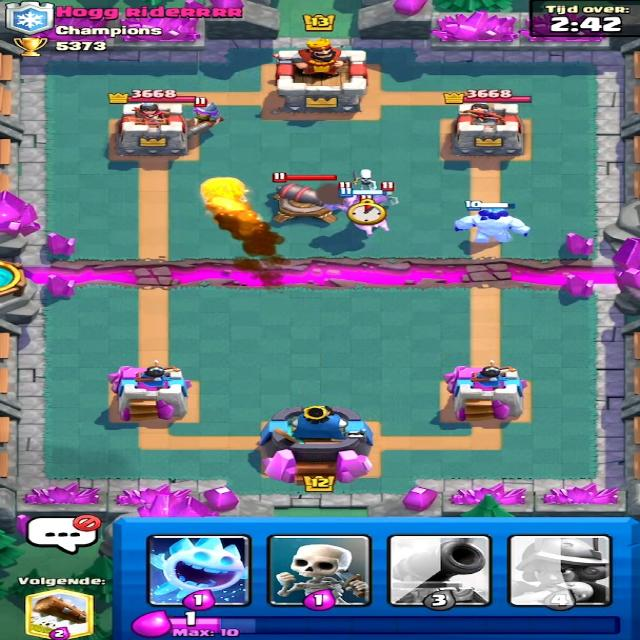Cannon_Card: (390, 530, 484, 608)
Enemy_Cannon_Troop: (270, 185, 326, 219)
Enemy_Musketeer_Troop: (178, 100, 234, 140)
Fireball_Troop: (191, 177, 253, 217)
Ice_Golem_Troop: (453, 209, 531, 246)
Ice_Spirit_Card: (151, 534, 250, 608)
Musketeer_Card: (508, 535, 610, 606)
Skeleton_Card: (271, 538, 367, 603)
